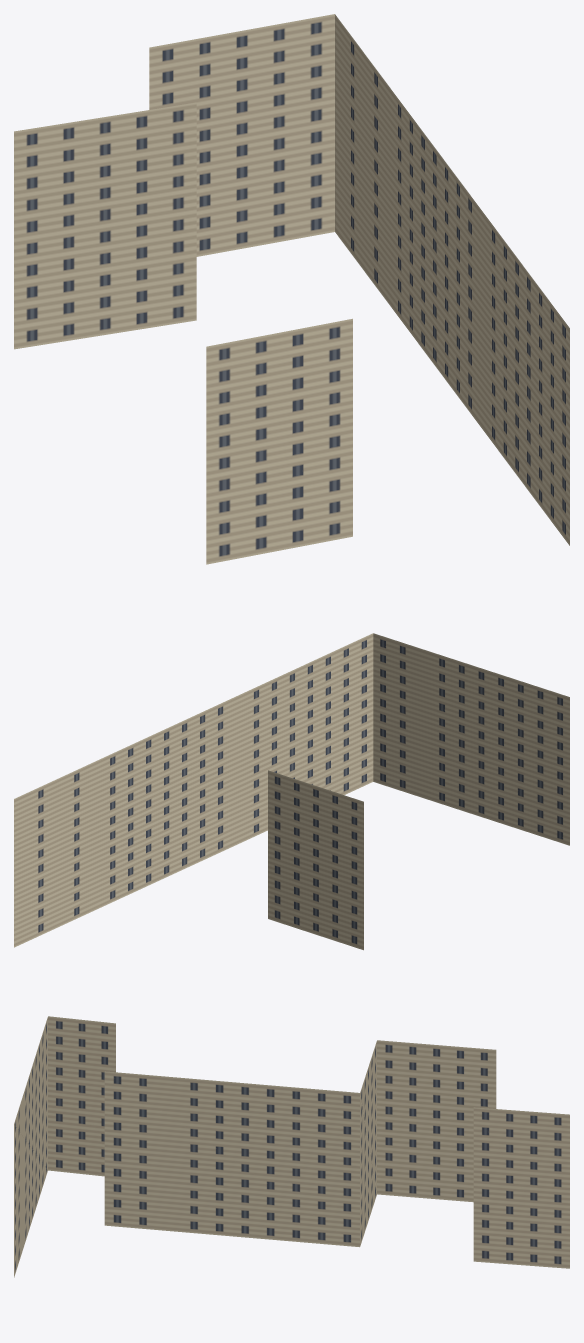
3 views of the same model, one above another, from view 1: azimuth 30°, elevation 25°; view 2: azimuth 150°, elevation 25°; view 3: azimuth 270°, elevation 25° (orthographic). The views are drawn at different scales.
Bounding box in the file's own units: 66 × 30 × 98.
2 materials, 2 textured.
